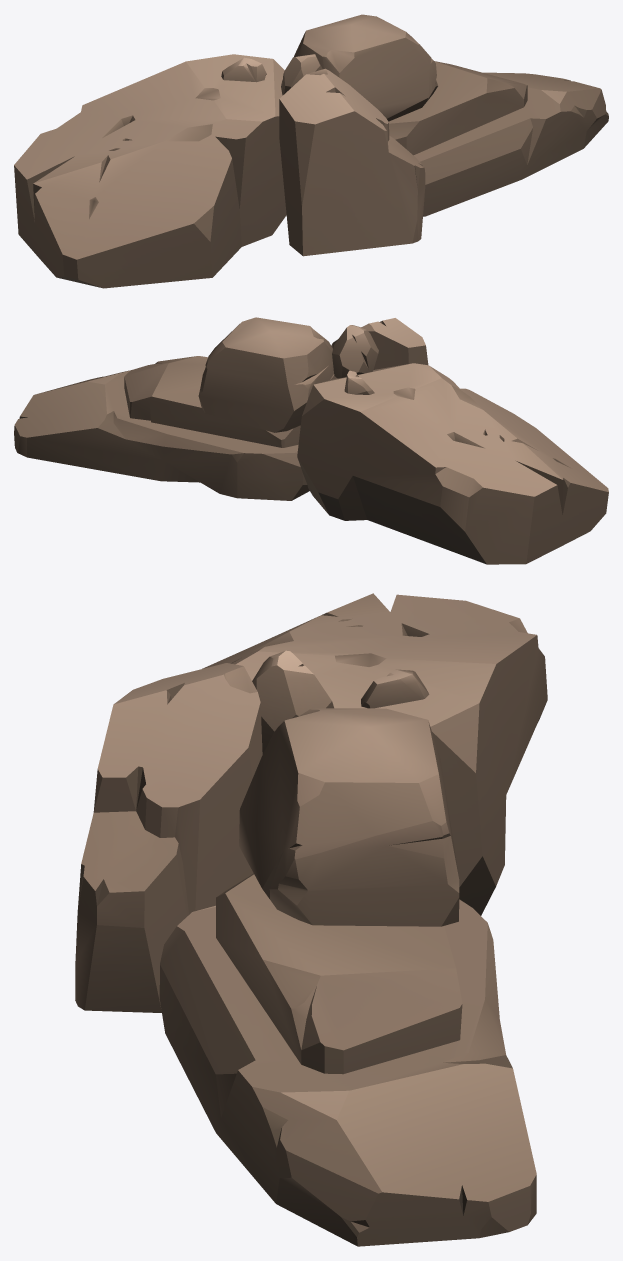
File: Cliff_Horizontal_2A.fbx
3 renders of one model, top to bottom at view 1: azimuth 30°, elevation 25°; view 2: azimuth 150°, elevation 25°; view 3: azimuth 270°, elevation 25°, orthographic. The views are drawn at different scales.
Parts seen in each view (by area): view 1: Cliff_Horizontal_2A; view 2: Cliff_Horizontal_2A; view 3: Cliff_Horizontal_2A.
Boxes of the visible parts, x1,y1,x2,y2 form: Cliff_Horizontal_2A: (14,14,608,288); Cliff_Horizontal_2A: (14,317,608,564); Cliff_Horizontal_2A: (75,593,547,1246).
Bounding box in the file's own units: 4407 × 1161 × 1675.
